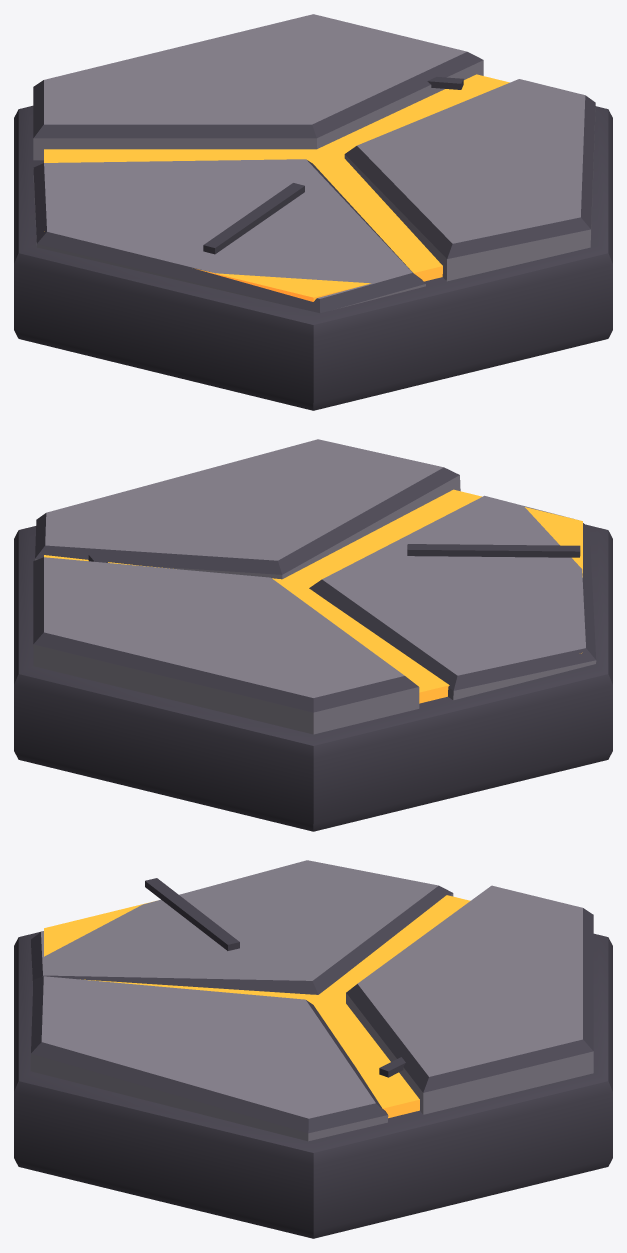
Rendered from hex_tile_cracked.glb.
The picture shows the model from 3 angles, top to bottom: view 1: azimuth 30°, elevation 25°; view 2: azimuth 150°, elevation 25°; view 3: azimuth 270°, elevation 25°; orthographic projection.
Visible parts, largest first — view 1: hex_tile_cracked; view 2: hex_tile_cracked; view 3: hex_tile_cracked.
Boxes of the visible parts, x1,y1,x2,y2 form: hex_tile_cracked: (14,14,612,410); hex_tile_cracked: (14,439,612,831); hex_tile_cracked: (14,860,612,1238).
Bounding box in the file's own units: 2 × 0.412 × 1.73.
